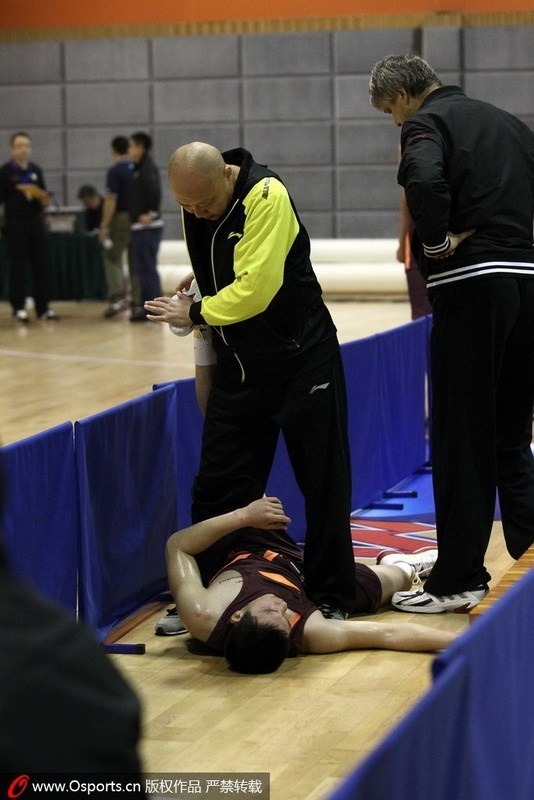falling: (154, 478, 484, 677)
